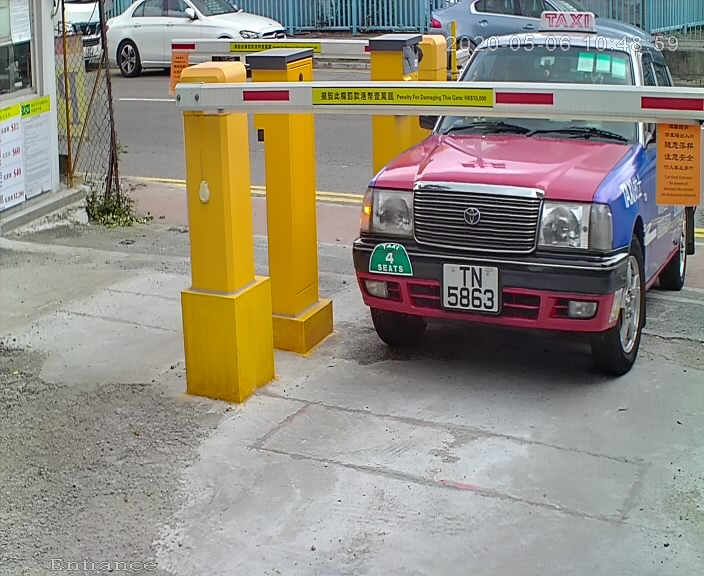taxi: (352, 13, 704, 358)
taxi_mark: (363, 236, 421, 285)
